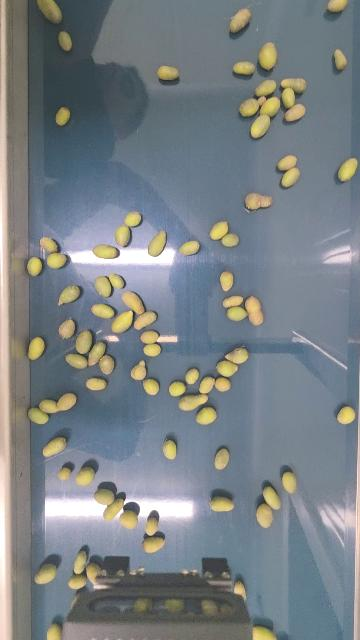Baby Potato: (228, 6, 253, 34), (36, 0, 63, 25), (237, 95, 267, 117), (258, 41, 279, 71), (244, 295, 264, 326), (121, 290, 146, 314), (42, 435, 67, 459), (250, 113, 272, 140), (337, 156, 358, 184), (34, 561, 58, 585), (178, 393, 210, 411), (111, 309, 134, 334), (86, 339, 107, 366), (256, 501, 276, 529), (148, 229, 167, 258), (244, 192, 273, 211), (74, 329, 94, 356), (57, 284, 81, 306), (259, 94, 281, 117), (250, 623, 279, 640), (280, 76, 307, 94), (133, 310, 157, 330), (263, 485, 282, 510), (94, 274, 113, 299), (225, 346, 250, 365), (195, 405, 217, 426), (283, 103, 306, 123), (280, 166, 300, 189), (104, 498, 124, 521), (254, 78, 278, 97), (216, 358, 240, 377), (281, 470, 299, 495), (209, 496, 235, 513), (92, 243, 119, 259), (27, 336, 45, 360), (157, 63, 181, 81), (91, 302, 116, 319), (209, 220, 229, 241), (114, 224, 131, 248), (57, 391, 77, 411), (277, 153, 298, 172), (76, 466, 95, 487), (57, 318, 76, 339), (337, 404, 356, 425), (143, 536, 166, 553), (65, 352, 88, 369), (280, 86, 297, 109), (99, 354, 116, 377), (214, 447, 230, 471), (232, 60, 256, 76), (120, 508, 138, 529), (73, 550, 87, 576), (219, 269, 234, 293), (130, 360, 147, 381), (179, 239, 200, 256), (46, 252, 67, 269), (226, 304, 247, 321), (28, 407, 49, 424), (333, 48, 348, 71), (39, 236, 59, 253), (54, 106, 71, 126), (94, 488, 114, 505), (57, 30, 73, 51), (26, 256, 42, 277), (199, 375, 216, 394), (39, 397, 58, 414), (222, 294, 245, 308), (86, 376, 107, 391), (124, 210, 141, 228), (221, 231, 239, 248), (142, 377, 159, 395), (168, 380, 186, 397), (163, 439, 177, 460), (214, 375, 231, 392), (68, 574, 86, 590), (327, 0, 349, 13), (142, 342, 161, 357), (85, 562, 100, 581), (144, 516, 158, 536), (184, 367, 199, 385), (46, 622, 61, 640), (109, 272, 124, 290), (140, 330, 159, 344), (233, 580, 246, 600), (57, 466, 71, 481)
